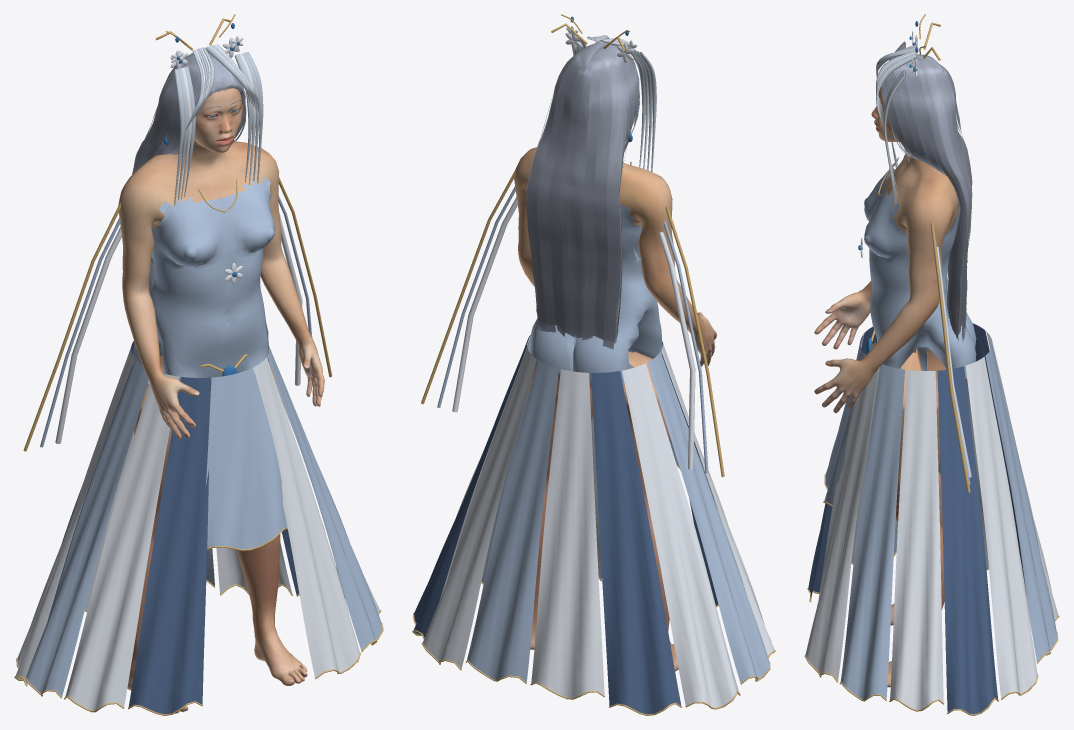
Rendered from Qingli_static_study.glb.
3 views of the same model, side by side, from view 1: azimuth 30°, elevation 25°; view 2: azimuth 150°, elevation 25°; view 3: azimuth 270°, elevation 25° (orthographic). The views are drawn at different scales.
Parts seen in each view (by area): view 1: Qingli female base — CC0 study, Fitted bodice shell, Skirt panel 12, Skirt panel 11, Front short layered apron, Skirt panel 01, Skirt panel 10, Skirt panel 02, CC0 long hair base candidate, Skirt panel 09, Shoulder ribbon -1 0, Skirt panel 05 (+4 smaller); view 2: CC0 long hair base candidate, Skirt panel 08, Skirt panel 07, Skirt panel 09, Skirt panel 06, Qingli female base — CC0 study, Skirt panel 05, Skirt panel 10, Fitted bodice shell, Skirt panel 04, Skirt panel 11, Shoulder ribbon -1 0 (+6 smaller); view 3: Skirt panel 03, Qingli female base — CC0 study, Skirt panel 04, Skirt panel 02, Skirt panel 05, CC0 long hair base candidate, Fitted bodice shell, Skirt panel 01, Skirt panel 06, Front short layered apron, Skirt panel 12, Shoulder ribbon 1 2 (+5 smaller).
Boxes of the visible parts, x1,y1,x2,y2 form: Qingli female base — CC0 study: [118, 88, 324, 713]; Fitted bodice shell: [132, 177, 274, 383]; Skirt panel 12: [128, 377, 210, 714]; Skirt panel 11: [65, 373, 178, 710]; Front short layered apron: [205, 367, 287, 549]; Skirt panel 01: [253, 357, 359, 677]; Skirt panel 10: [26, 359, 148, 696]; Skirt panel 02: [267, 346, 382, 650]; CC0 long hair base candidate: [132, 51, 246, 293]; Skirt panel 09: [15, 347, 134, 684]; Shoulder ribbon -1 0: [55, 227, 121, 444]; Skirt panel 05: [216, 542, 292, 594]; CC0 long hair base candidate: [526, 42, 640, 349]; Skirt panel 08: [591, 371, 681, 714]; Skirt panel 07: [531, 369, 604, 697]; Skirt panel 09: [622, 363, 739, 707]; Skirt panel 06: [467, 360, 558, 682]; Qingli female base — CC0 study: [514, 147, 716, 671]; Skirt panel 05: [423, 348, 536, 668]; Skirt panel 10: [647, 352, 769, 682]; Fitted bodice shell: [526, 183, 662, 384]; Skirt panel 04: [413, 335, 530, 637]; Skirt panel 11: [661, 340, 774, 656]; Shoulder ribbon -1 0: [659, 231, 695, 469]; Skirt panel 03: [890, 370, 943, 709]; Qingli female base — CC0 study: [814, 88, 967, 687]; Skirt panel 04: [937, 366, 998, 714]; Skirt panel 02: [840, 364, 904, 699]; Skirt panel 05: [965, 356, 1037, 698]; CC0 long hair base candidate: [880, 54, 972, 342]; Fitted bodice shell: [864, 157, 976, 378]; Skirt panel 01: [805, 353, 878, 680]; Skirt panel 06: [985, 344, 1057, 661]; Front short layered apron: [824, 334, 863, 505]; Skirt panel 12: [808, 326, 877, 599]; Shoulder ribbon 1 2: [931, 223, 970, 492].
Bounding box in the file's own units: 0.9648 × 1.77 × 0.6545.
Materials: 12 (2 with a texture image).
